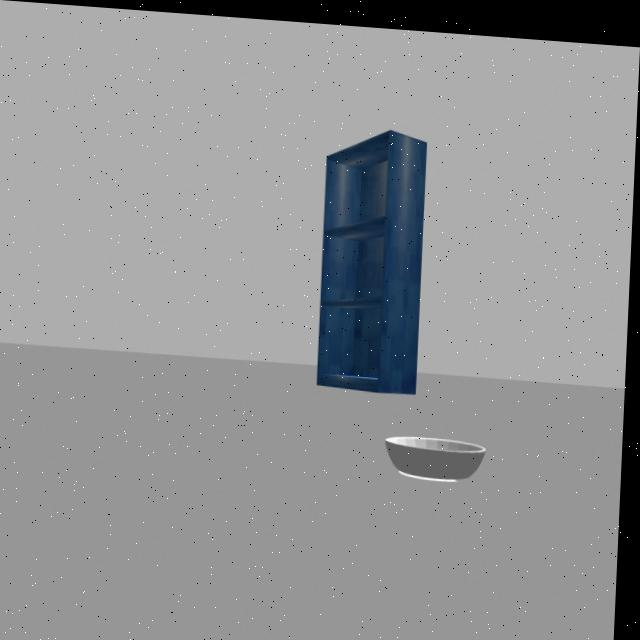bowl: (381, 419, 495, 480)
shelf: (309, 114, 441, 399)
